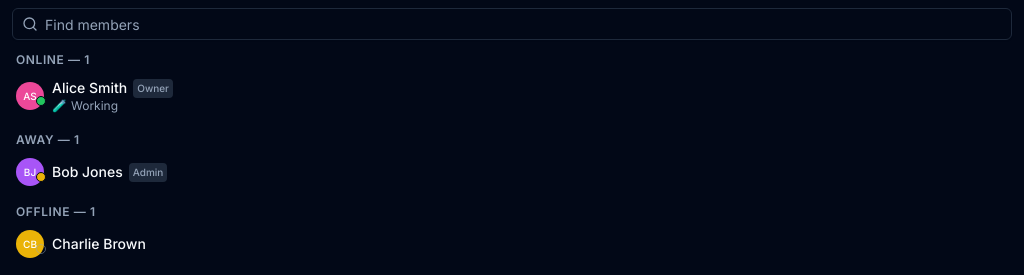
MemberList › shows "No members found" when search has no results
In the field with placeholder "Find members": (512, 24) [12,8,1012,40], type "zzzzz"
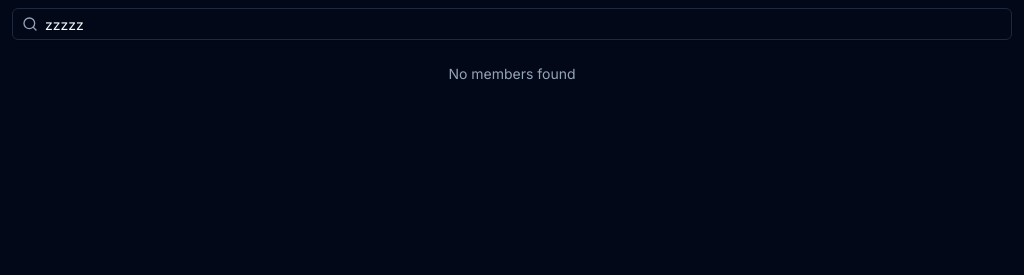
Check: the text "No members found" is shown, box [448,65,576,82]
